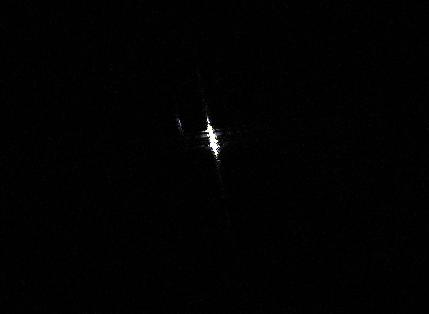ship: (202, 119, 226, 160)
